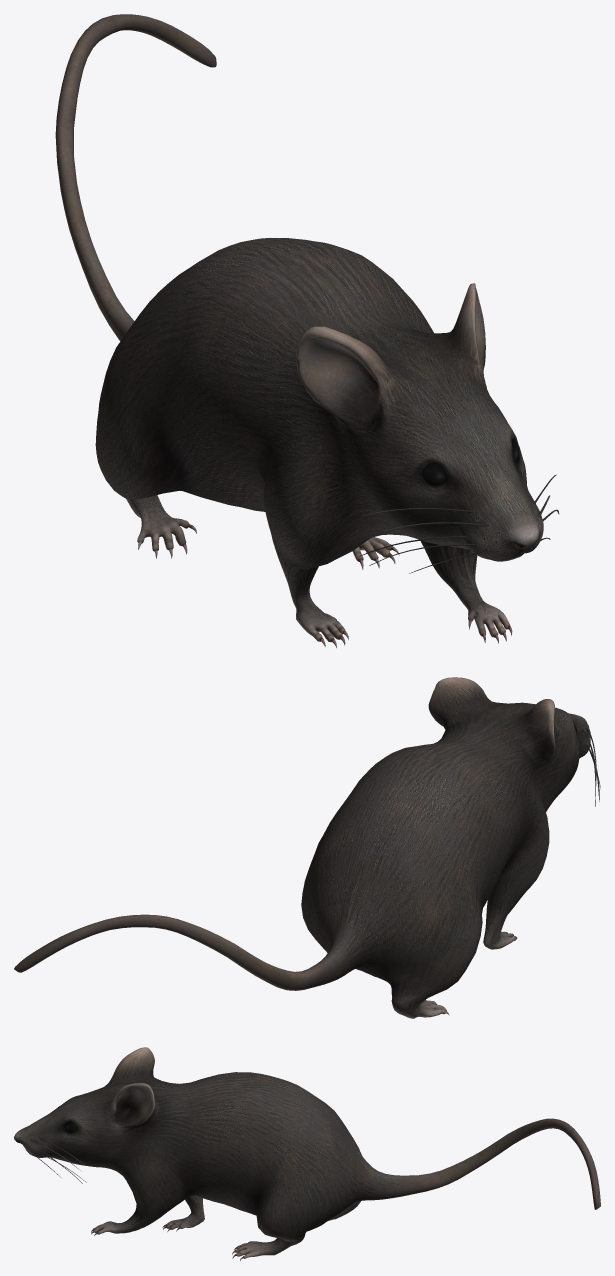
Rendered from mouse.glb.
3 renders of one model, top to bottom at view 1: azimuth 30°, elevation 25°; view 2: azimuth 150°, elevation 25°; view 3: azimuth 270°, elevation 25°, orthographic. The views are drawn at different scales.
Parts seen in each view (by area): view 1: node_id5; view 2: node_id5; view 3: node_id5.
Boxes of the visible parts, left/top/right/bottom form: node_id5: left=55, top=14, right=559, bottom=647; node_id5: left=14, top=677, right=600, bottom=1018; node_id5: left=14, top=1047, right=600, bottom=1260.
Bounding box in the file's own units: 0.0442 × 0.0377 × 0.1138.
Materials: 1 (1 with a texture image).
